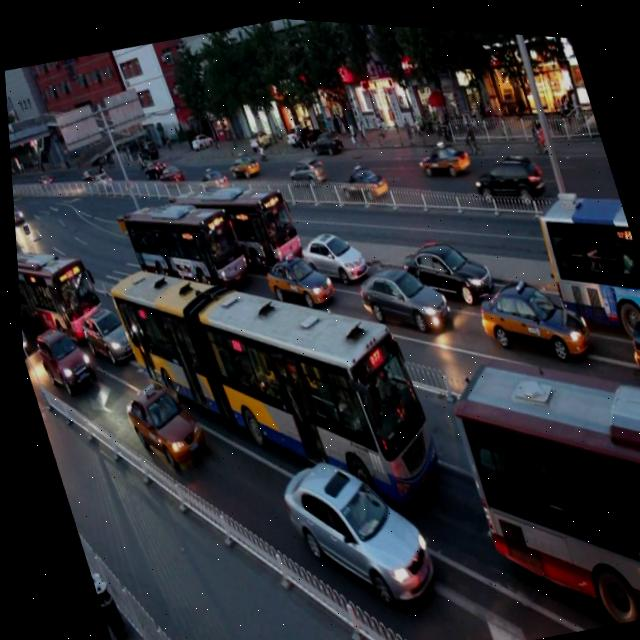car: (265, 429, 436, 620), (464, 250, 593, 373), (346, 240, 450, 340), (112, 368, 207, 477), (394, 215, 494, 307), (253, 233, 334, 313), (289, 209, 367, 288), (27, 317, 96, 397), (73, 299, 139, 370), (617, 300, 640, 379)
van: (95, 200, 448, 553), (432, 308, 640, 640), (112, 172, 252, 311), (524, 167, 640, 333), (166, 154, 305, 285), (12, 228, 102, 345)
